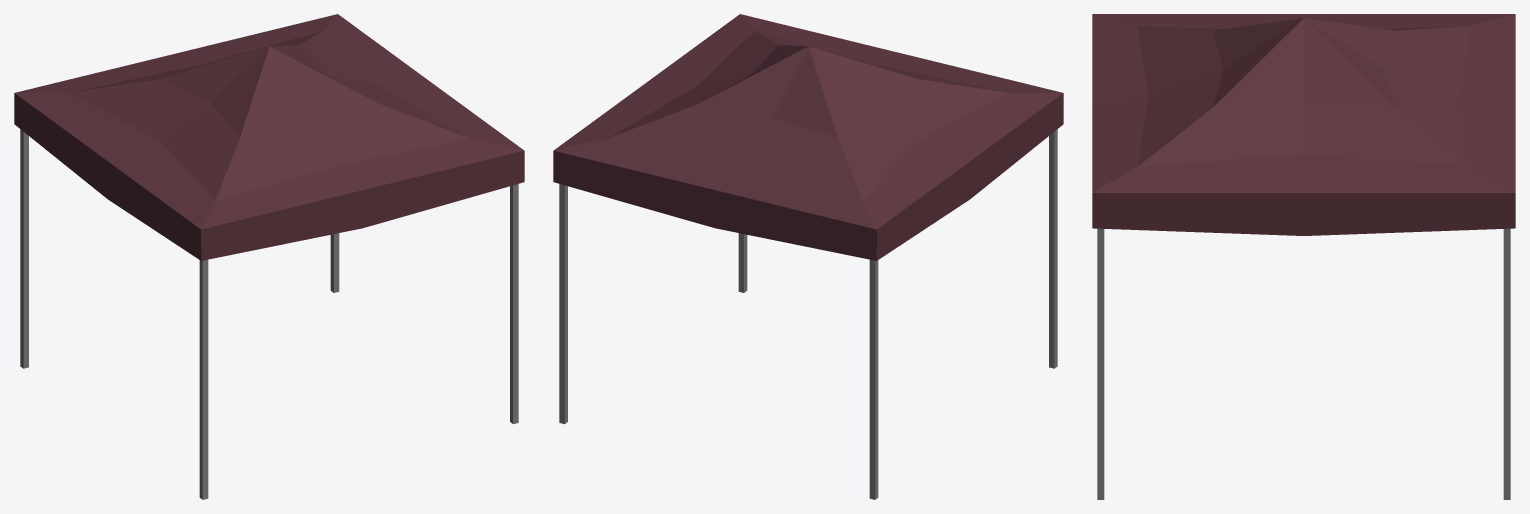
The model's file is tent-party.fbx.
3 renders of one model, left to right at view 1: azimuth 30°, elevation 25°; view 2: azimuth 150°, elevation 25°; view 3: azimuth 270°, elevation 25°, orthographic. The views are drawn at different scales.
Visible parts, largest first — view 1: tent-party; view 2: tent-party; view 3: tent-party.
Part boxes in pixels (x1,y1,x2,y2): tent-party: (14,14,524,499); tent-party: (553,14,1063,499); tent-party: (1092,14,1515,499).
Size of the model in its own units: 3 by 3.09 by 3.
